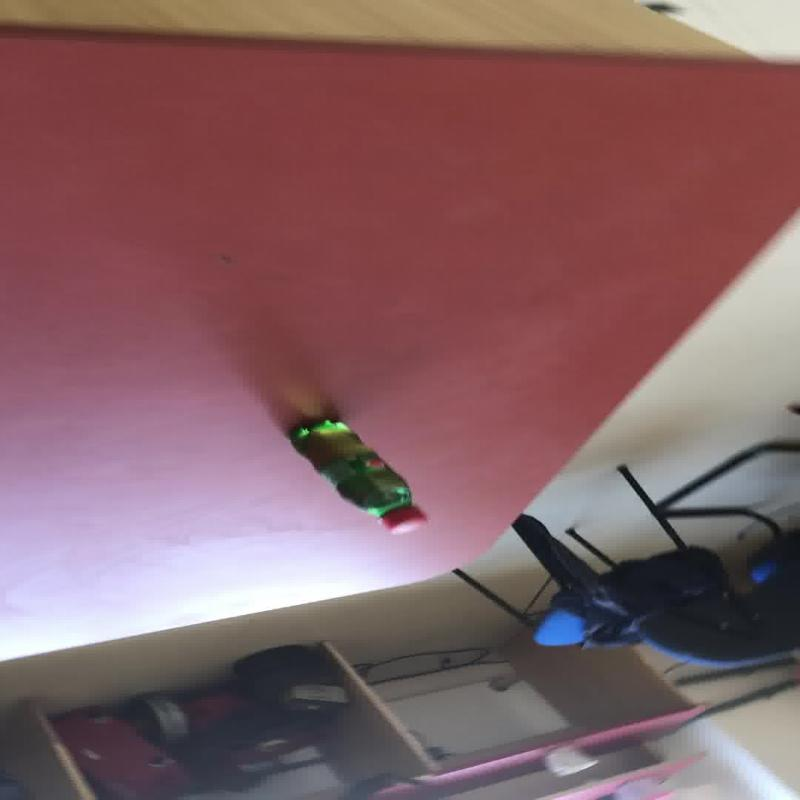guarana: (284, 416, 427, 534)
